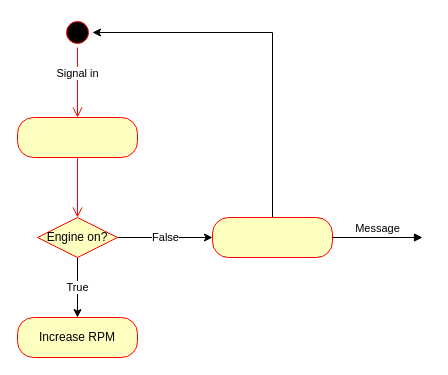
Some shapes in this 448 by 375 pixel diagram are drawn without their labels. Each missing label, with the centre of its shape:
"Accelerate" goes at pixel 77 137.
"Send state to CAN out" goes at pixel 272 237.
